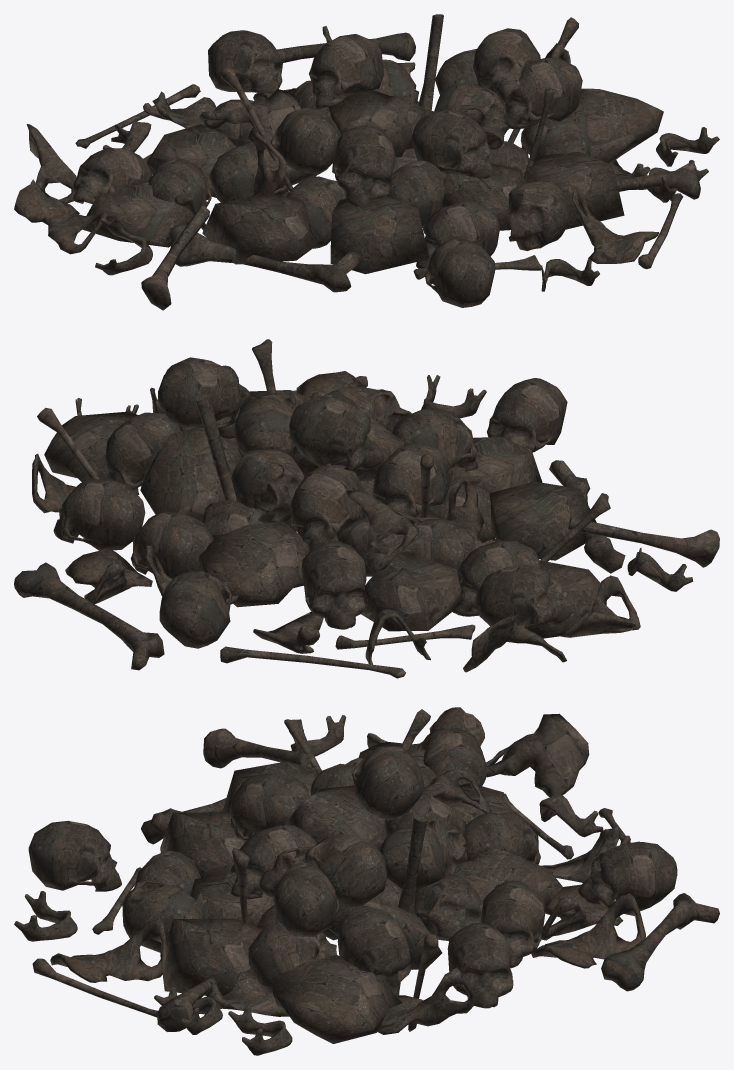
File: aeg277_097.glb
3 renders of one model, top to bottom at view 1: azimuth 30°, elevation 25°; view 2: azimuth 150°, elevation 25°; view 3: azimuth 270°, elevation 25°, orthographic. The views are drawn at different scales.
Visible parts, largest first — view 1: mesh[1], mesh[0]; view 2: mesh[1], mesh[0]; view 3: mesh[1], mesh[0].
Part boxes in pixels (<box>): mesh[1]: <box>14,14,719,310</box>; mesh[0]: <box>82,88,663,274</box>; mesh[1]: <box>14,339,719,678</box>; mesh[0]: <box>44,390,600,638</box>; mesh[1]: <box>14,707,719,1055</box>; mesh[0]: <box>160,741,563,1043</box>.
Bounding box in the file's own units: 2.18 × 0.6251 × 2.04.
2 materials, 2 textured.
